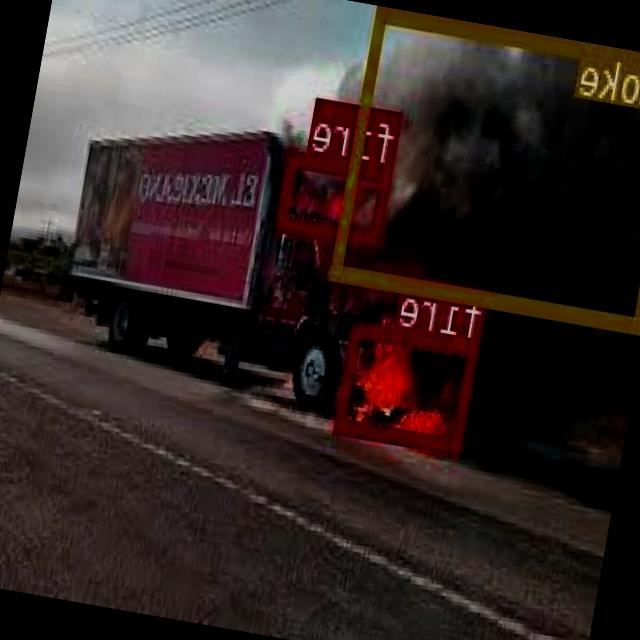fire: (336, 320, 482, 454), (279, 147, 396, 245)
smoke: (331, 5, 640, 332)
